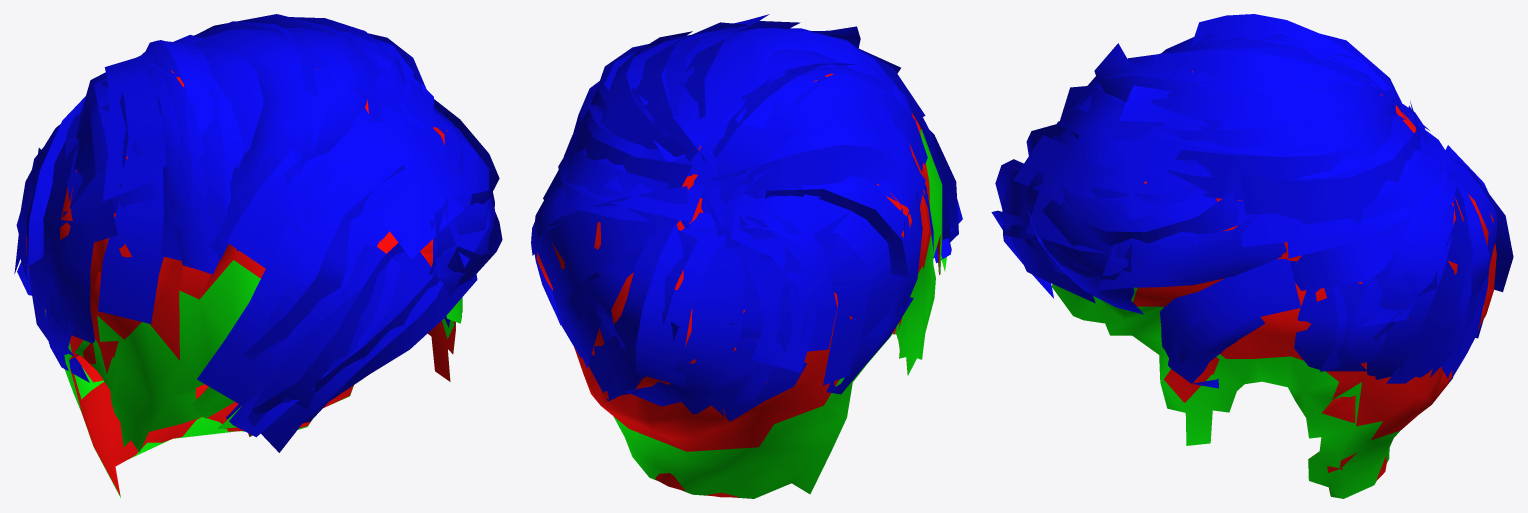
The model's file is hair_004.obj.
The picture shows the model from 3 angles, left to right: view 1: azimuth 30°, elevation 25°; view 2: azimuth 150°, elevation 25°; view 3: azimuth 270°, elevation 25°; orthographic projection. The views are drawn at different scales.
Size of the model in its own units: 19.63 by 22.39 by 24.77.
